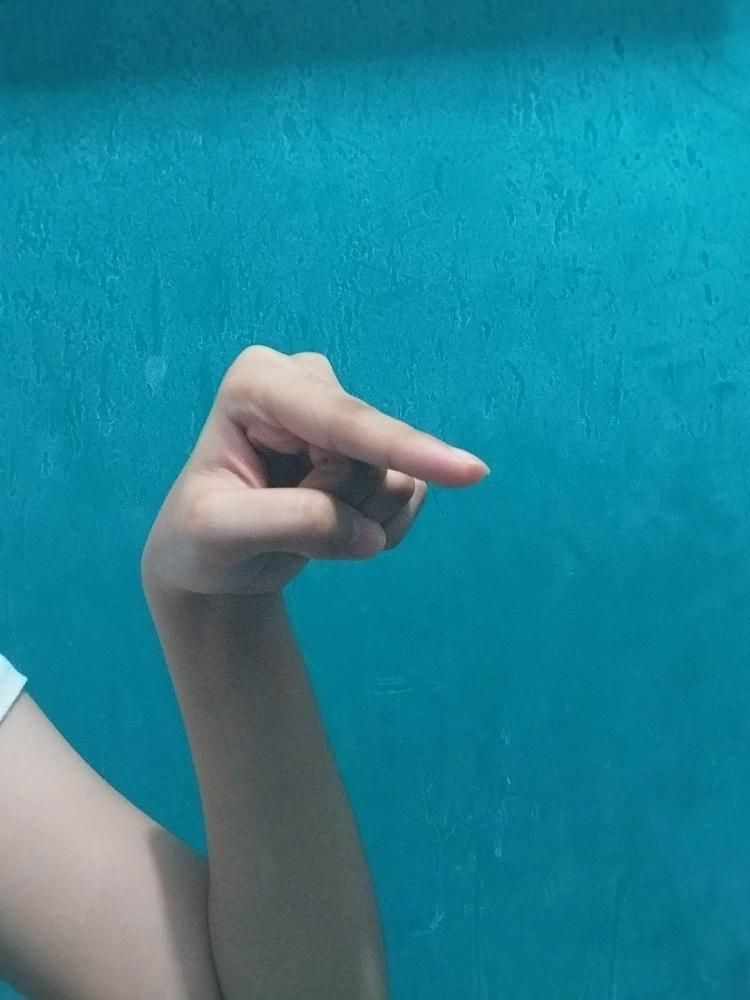z: (136, 341, 488, 592)
